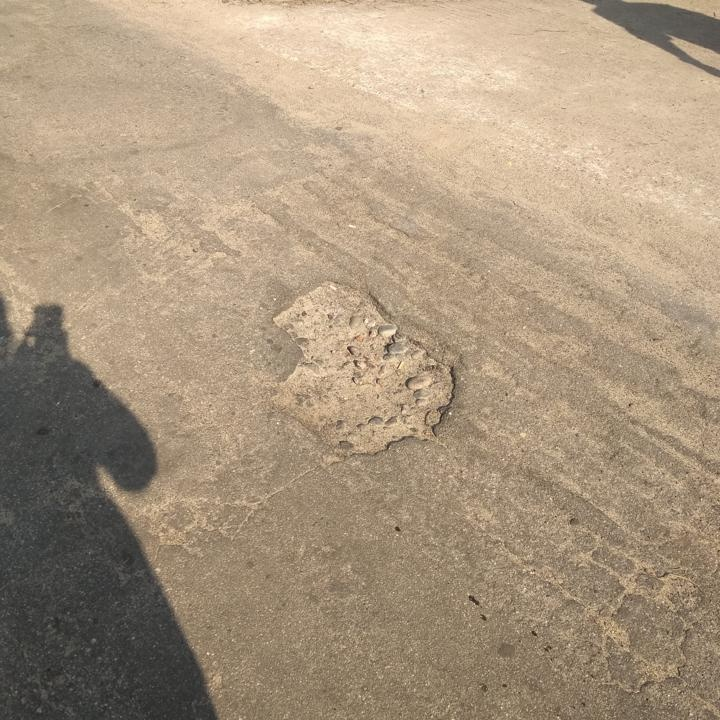pothole: (267, 277, 462, 459)
